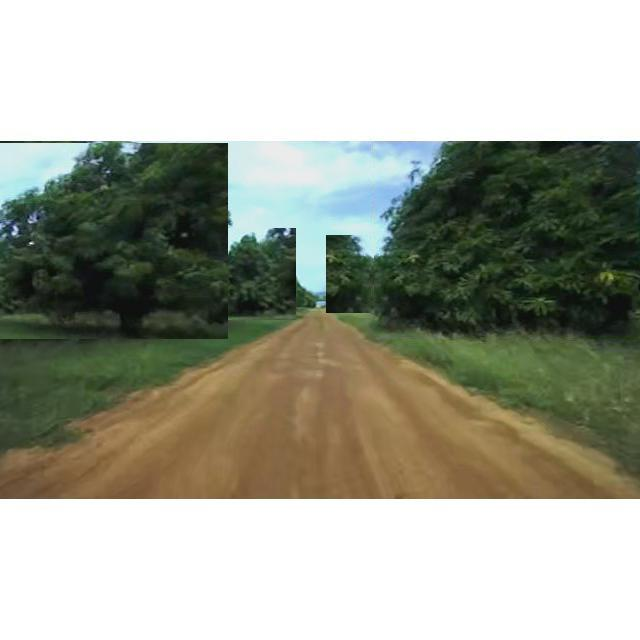direk: (374, 142, 640, 338), (0, 143, 228, 339), (204, 228, 296, 320), (326, 235, 418, 313)
